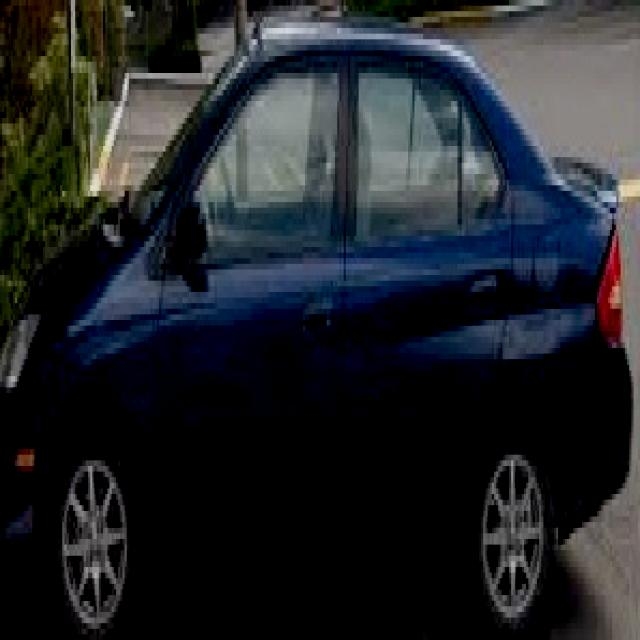blue: (0, 24, 632, 630)
